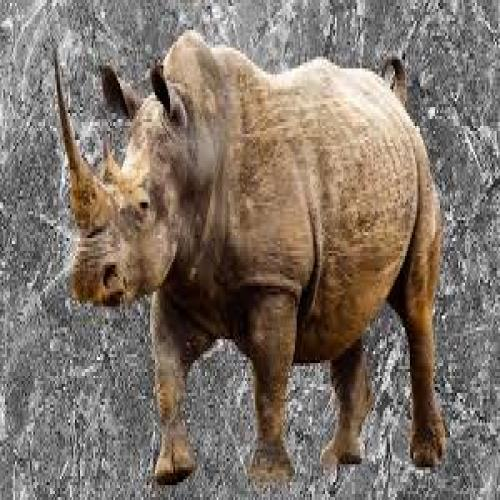rhino-endangered: (51, 30, 451, 473)
